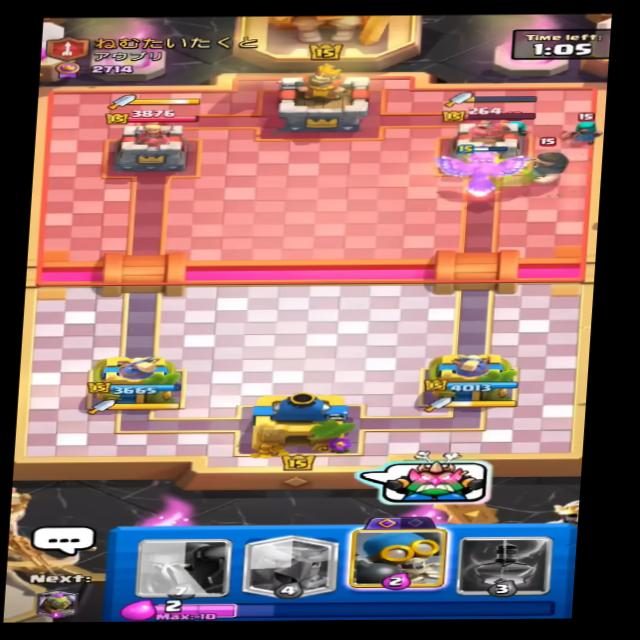rascal-boy: (504, 142, 588, 183)
rascal-girl: (567, 111, 602, 145), (502, 110, 537, 139)
